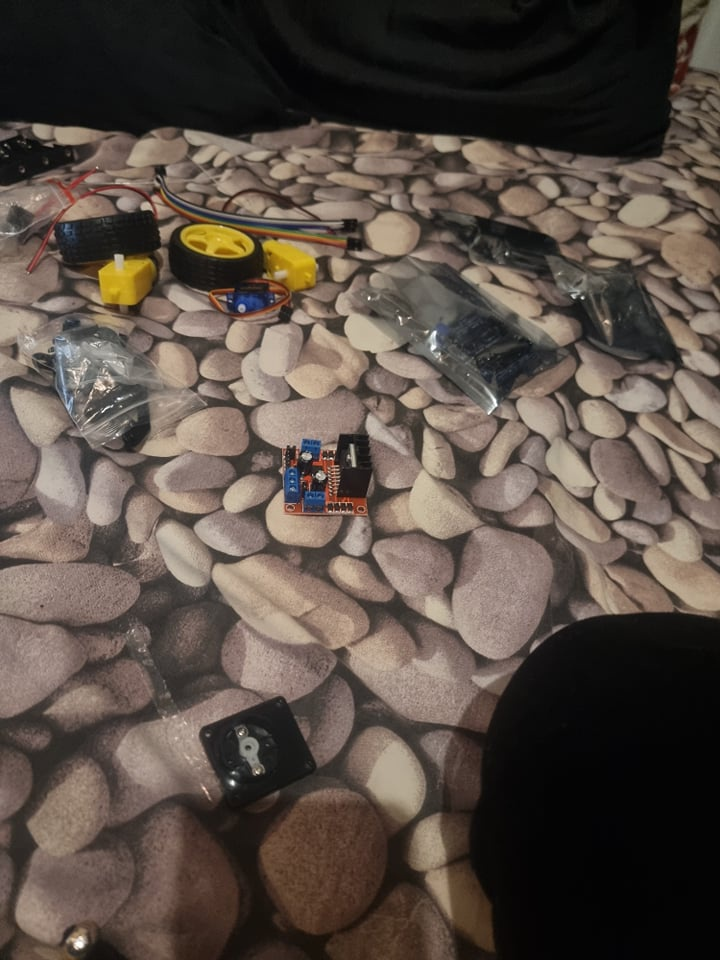BATTERY BOX: (0, 130, 75, 185)
MOTOR: (283, 431, 378, 519)
